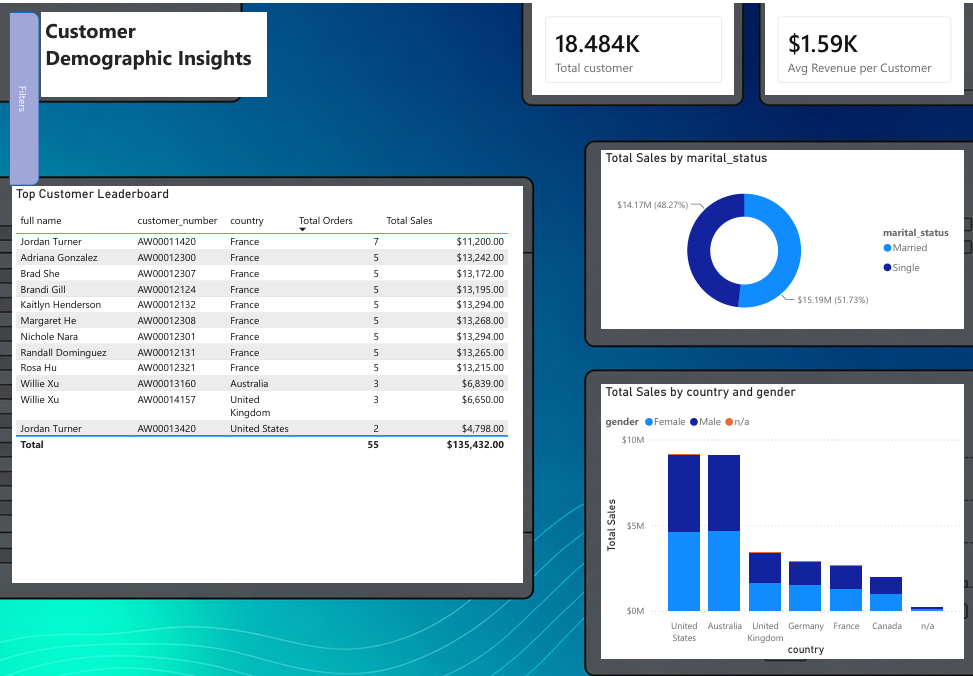

The dashboard page shown, as its layout file describes it:
{"tool":"powerbi","page":{"name":" Customer Demographic Insights","canvas":[1600,690],"ordinal":2},"visuals":[{"type":"shape","title":"Slicer_shpw_box","box":[8.7,97.2,261.1,456.2],"z":0,"group":"g1"},{"type":"group","id":"g1","title":"slicer panel","box":[8.7,97.2,261.1,456.2],"z":1000,"group":"g2"},{"type":"slicer","title":"Slicer_country","fields":{"Values":["gold dim_customers.country"]},"box":[36.8,461.8,195.3,72.3],"z":1000,"group":"g1"},{"type":"slicer","title":"Slicer_product","fields":{"Values":["gold dim_products.product_line"]},"box":[34.6,364.6,205,84.9],"z":2000,"group":"g1"},{"type":"slicer","title":"Slicer_order_date","fields":{"Values":["gold fact_sales.order_date"]},"box":[28.1,188.4,211.5,91.2],"z":3000,"group":"g1"},{"type":"slicer","title":"Slicer_category","fields":{"Values":["gold dim_products.category"]},"box":[34.6,267.1,205,97.5],"z":4000,"group":"g1"},{"type":"textbox","title":"slicer_text_box","box":[64.8,116.1,146.7,72.4],"z":5000,"group":"g1"},{"type":"tableEx","title":"Top Customer Leaderboard","fields":{"Values":["gold dim_customers.full name","gold dim_customers.customer_number","gold dim_customers.country","_All Measures.Total Orders","_All Measures.Total Sales"]},"box":[672.2,210.3,550.5,451.5],"z":9000},{"type":"shape","box":[0,0,284.6,657.7],"z":15001},{"type":"group","id":"g2","title":"slicers","box":[8.7,97.2,262,456.4],"z":15002},{"type":"cardVisual","fields":{"Data":["Count(gold dim_customers.customer_id)"]},"box":[303.1,33,309.3,154.6],"z":15003},{"type":"cardVisual","fields":{"Data":["_All Measures.Avg Revenue per Customer"]},"box":[629.6,33,309.3,154.6],"z":15004},{"type":"cardVisual","fields":{"Data":["_All Measures.Total Sales"]},"box":[956,33,309.3,154.6],"z":15005},{"type":"cardVisual","fields":{"Data":["_All Measures.Total Orders"]},"box":[1282.5,33,309.3,154.6],"z":15006},{"type":"donutChart","title":"Sales Distribution by Marital Status","fields":{"Category":["gold dim_customers.marital_status"],"Y":["_All Measures.Total Sales"]},"box":[303.1,210.3,358.8,451.5],"z":15007},{"type":"columnChart","fields":{"Y":["_All Measures.Total Sales"],"Category":["gold dim_customers.country"],"Series":["gold dim_customers.gender"]},"box":[1233,210.3,358.8,451.5],"z":15008}]}

Visuals, with their boxes on the page's 1600x690 design canvas (x1, y1, x2, y2). These are canvas units, not pixel positions in the 973x676 screenshot, which may show the page scaled, cropped or inside an application window:
"Slicer_shpw_box" shape: bbox=[9, 97, 270, 553]
"slicer panel" group: bbox=[9, 97, 270, 553]
"Slicer_country" slicer: bbox=[37, 462, 232, 534]
"Slicer_product" slicer: bbox=[35, 365, 240, 450]
"Slicer_order_date" slicer: bbox=[28, 188, 240, 280]
"Slicer_category" slicer: bbox=[35, 267, 240, 365]
"slicer_text_box" textbox: bbox=[65, 116, 212, 188]
"Top Customer Leaderboard" tableEx: bbox=[672, 210, 1223, 662]
shape: bbox=[0, 0, 285, 658]
"slicers" group: bbox=[9, 97, 271, 554]
cardVisual - Count(gold dim_customers.customer_id): bbox=[303, 33, 612, 188]
cardVisual - _All Measures.Avg Revenue per Customer: bbox=[630, 33, 939, 188]
cardVisual - _All Measures.Total Sales: bbox=[956, 33, 1265, 188]
cardVisual - _All Measures.Total Orders: bbox=[1282, 33, 1592, 188]
"Sales Distribution by Marital Status" donutChart: bbox=[303, 210, 662, 662]
columnChart - _All Measures.Total Sales x gold dim_customers.country: bbox=[1233, 210, 1592, 662]
